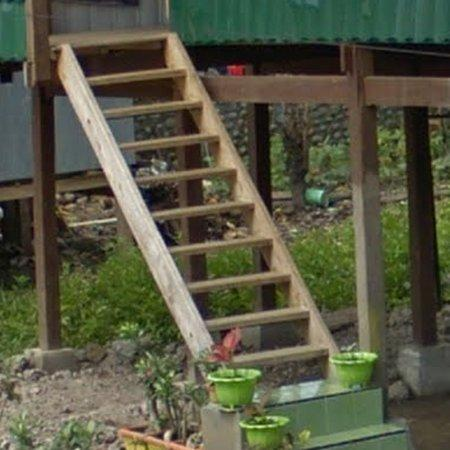stairs: (50, 30, 338, 375)
